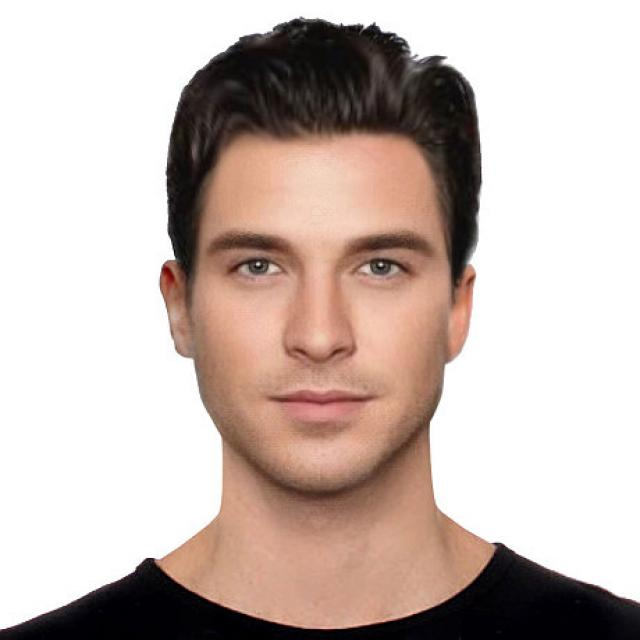earlobe: (172, 324, 194, 361), (446, 330, 464, 364)
eye: (354, 257, 406, 281), (232, 257, 285, 279)
nose: (286, 348, 353, 384)
wholeear: (158, 259, 194, 361), (446, 263, 476, 364)
